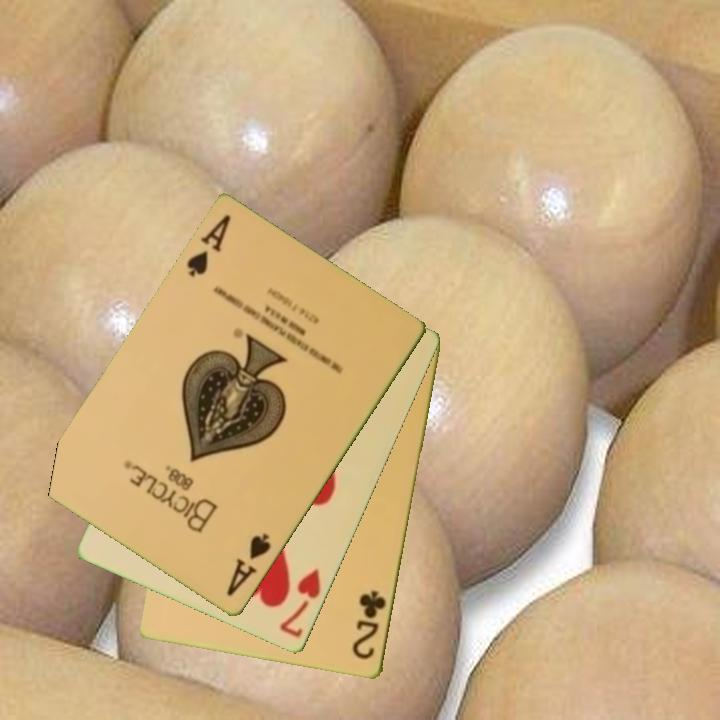2c: (349, 587, 390, 663)
7h: (276, 565, 324, 641)
As: (182, 211, 234, 280), (223, 530, 274, 600)
